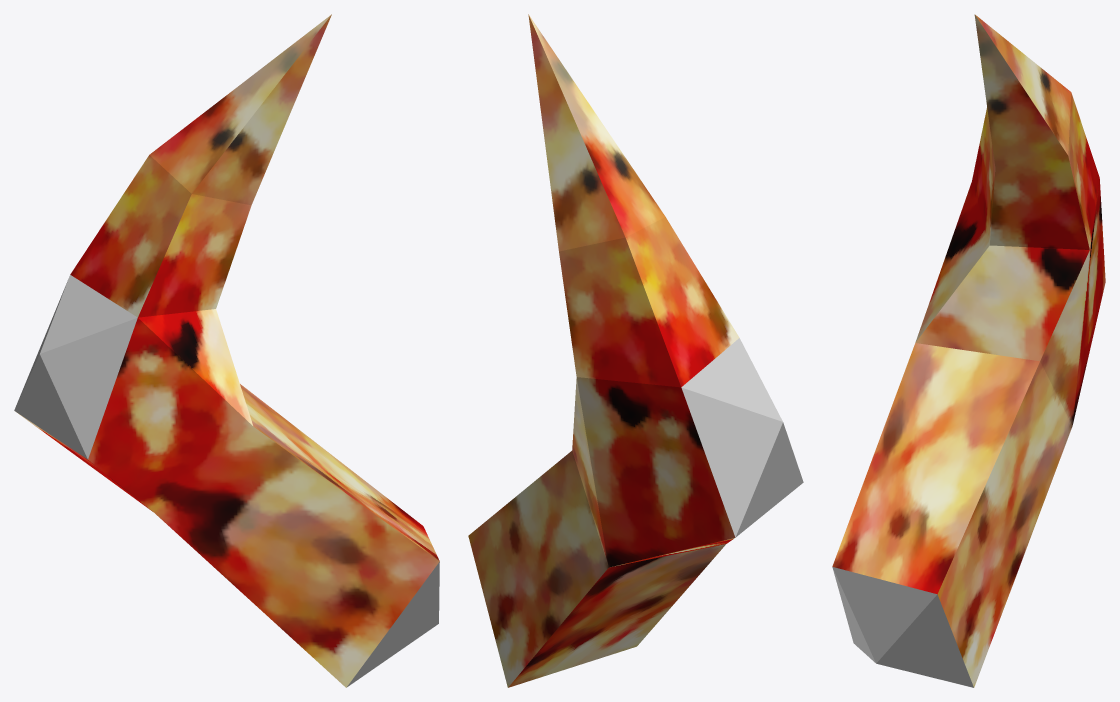
The model's file is RightAntler1.fbx.
The picture shows the model from 3 angles, left to right: view 1: azimuth 30°, elevation 25°; view 2: azimuth 150°, elevation 25°; view 3: azimuth 270°, elevation 25°; orthographic projection. The views are drawn at different scales.
Visible parts, largest first — view 1: BigRightAntler1; view 2: BigRightAntler1; view 3: BigRightAntler1.
Boxes of the visible parts, bbox=[...] form: BigRightAntler1: bbox=[14, 14, 439, 687]; BigRightAntler1: bbox=[468, 14, 803, 687]; BigRightAntler1: bbox=[832, 14, 1105, 687].
Size of the model in its own units: 328 by 587 by 219.
